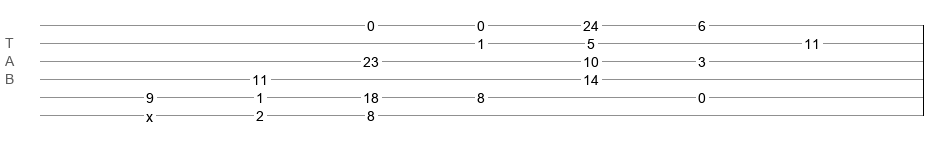0: (367, 18, 375, 28), (477, 18, 485, 28), (698, 90, 706, 100)
1: (256, 90, 264, 100), (477, 36, 485, 46)
10: (583, 54, 599, 64)
11: (252, 72, 268, 82), (804, 36, 820, 46)
14: (583, 72, 599, 82)
18: (363, 90, 379, 100)
2: (256, 108, 264, 118)
23: (363, 54, 379, 64)
24: (583, 18, 599, 28)
3: (698, 54, 706, 64)
5: (587, 36, 595, 46)
6: (698, 18, 706, 28)
8: (367, 108, 375, 118), (477, 90, 485, 100)
9: (146, 90, 154, 100)
x: (146, 109, 153, 117)
